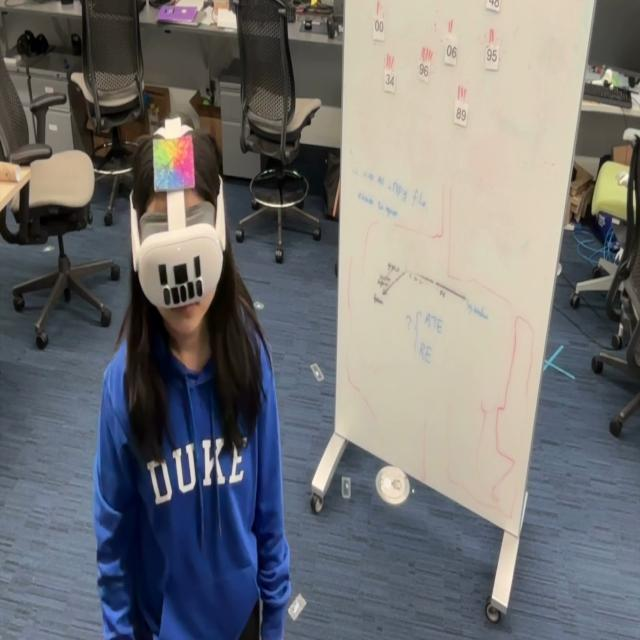Headset: (129, 130, 227, 310)
Marker: (152, 130, 196, 193)
